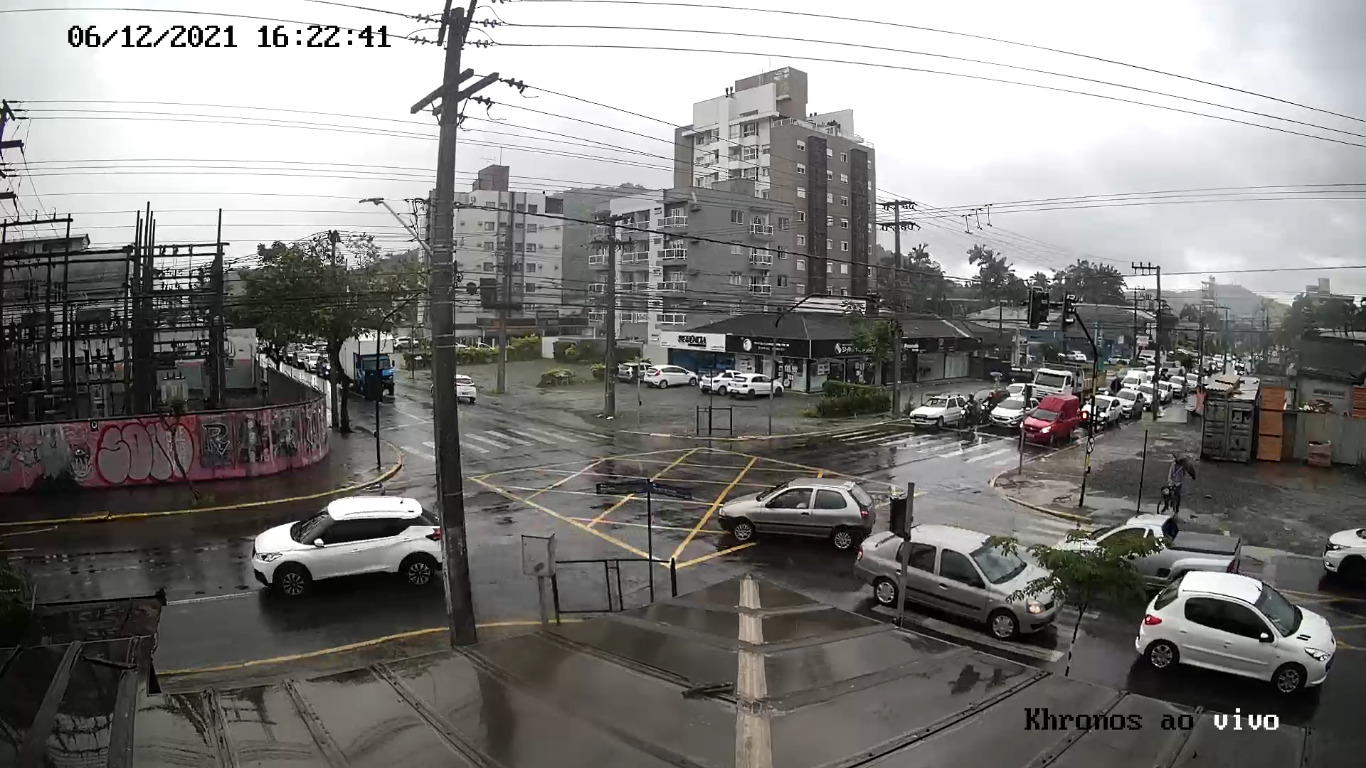car: (1136, 569, 1337, 699), (853, 522, 1064, 644), (252, 494, 448, 596), (718, 477, 877, 550)
